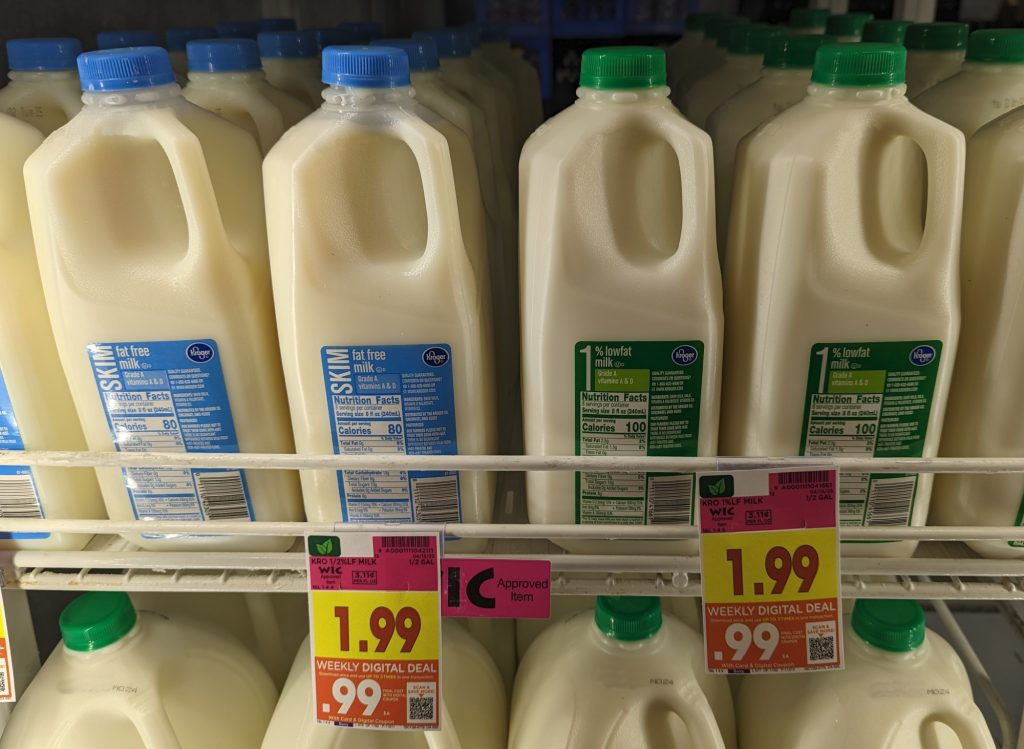milk: (23, 27, 262, 548), (257, 50, 497, 534), (746, 53, 1003, 461), (517, 60, 723, 512), (13, 592, 249, 749)
